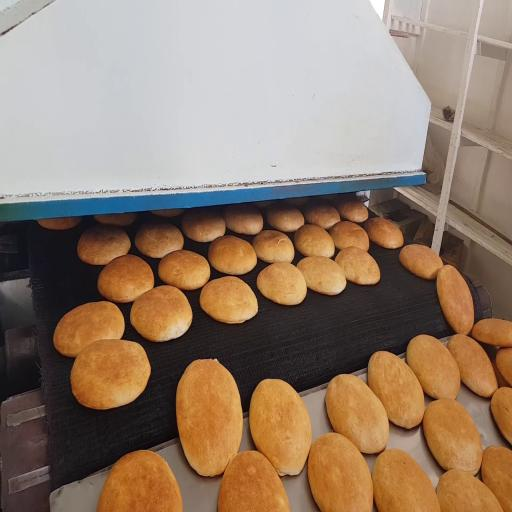bread: (176, 360, 242, 476), (250, 379, 311, 475), (71, 340, 150, 410), (97, 451, 182, 511), (308, 433, 373, 511), (326, 375, 389, 453), (423, 399, 482, 475), (218, 451, 290, 511), (368, 351, 424, 428), (372, 449, 440, 511), (54, 302, 124, 357), (131, 285, 192, 341), (407, 335, 460, 399), (447, 335, 497, 397), (437, 469, 503, 511), (200, 277, 258, 323), (98, 255, 154, 302), (437, 265, 474, 334), (78, 225, 130, 265), (158, 250, 210, 290), (257, 263, 306, 305), (208, 236, 257, 275), (297, 256, 346, 295), (482, 446, 511, 511), (335, 247, 380, 284), (135, 224, 183, 258), (399, 244, 443, 279), (182, 209, 225, 242), (252, 230, 294, 263), (294, 224, 334, 257), (223, 204, 263, 235), (330, 221, 369, 251), (491, 387, 511, 444), (365, 218, 403, 248), (472, 319, 511, 347), (267, 205, 304, 232), (305, 205, 340, 229), (338, 200, 368, 222), (94, 212, 137, 226), (37, 217, 81, 230), (496, 348, 511, 385), (491, 358, 510, 387), (151, 209, 183, 217), (254, 200, 282, 208), (285, 197, 309, 206)
